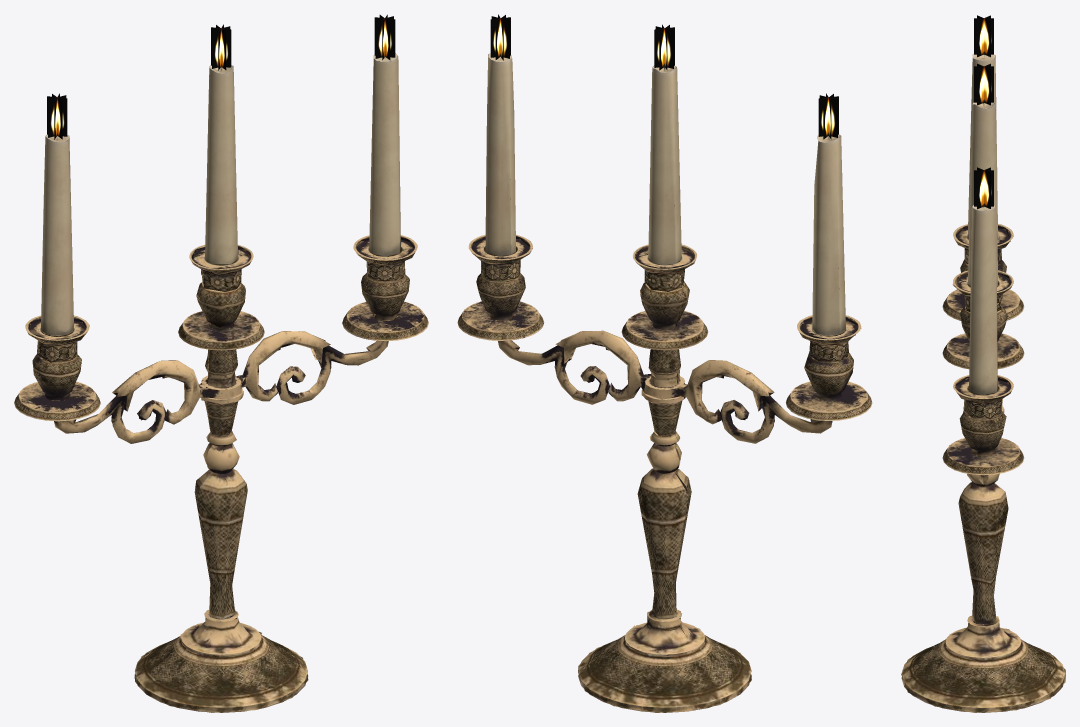
File: brass_candleholders_triple.glb
3 renders of one model, left to right at view 1: azimuth 30°, elevation 25°; view 2: azimuth 150°, elevation 25°; view 3: azimuth 270°, elevation 25°, orthographic. The views are drawn at different scales.
Visible parts, largest first — view 1: brass_candleholder_02; view 2: brass_candleholder_02; view 3: brass_candleholder_02.
Part boxes in pixels (bbox=[...]): brass_candleholder_02: bbox=[14, 14, 428, 712]; brass_candleholder_02: bbox=[457, 14, 872, 712]; brass_candleholder_02: bbox=[901, 15, 1065, 712].
Bounding box in the file's own units: 0.2611 × 0.4009 × 0.0976.
3 materials, 3 textured.
